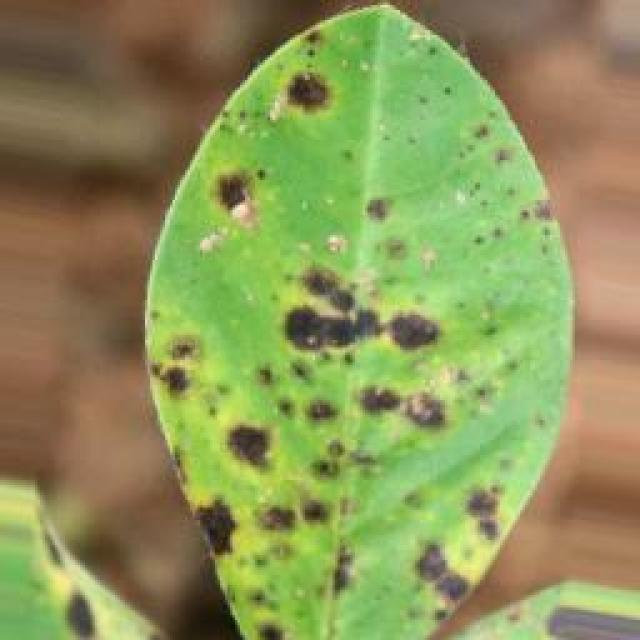Yellowish: (55, 0, 580, 625)
